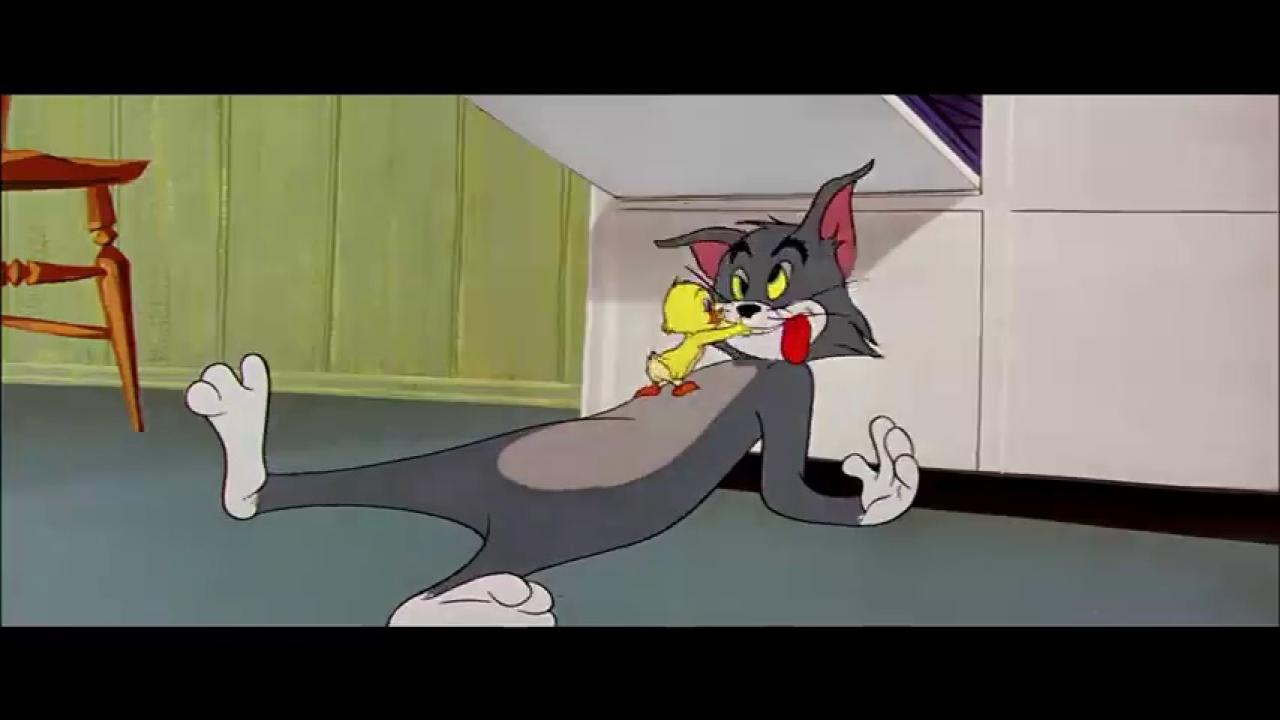Tom: (182, 155, 924, 628)
